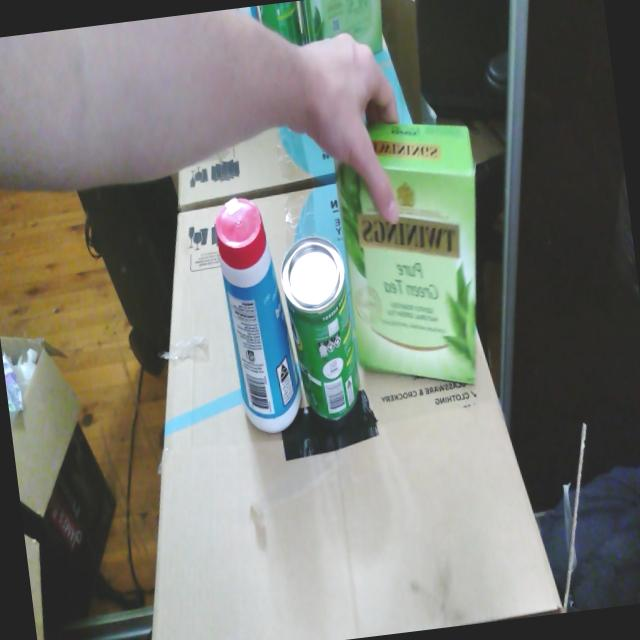nestle_milo_tin: (280, 236, 359, 420)
twinings_greentea_box: (333, 121, 475, 383)
woolworths_salt_bottle: (215, 198, 301, 433)
